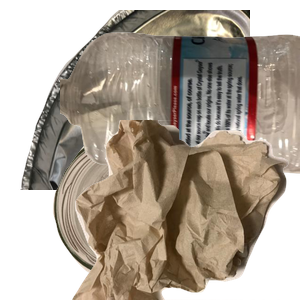glass: (50, 131, 252, 300)
metal: (18, 10, 258, 190)
plastic: (60, 30, 300, 196)
trash: (70, 120, 300, 300)
